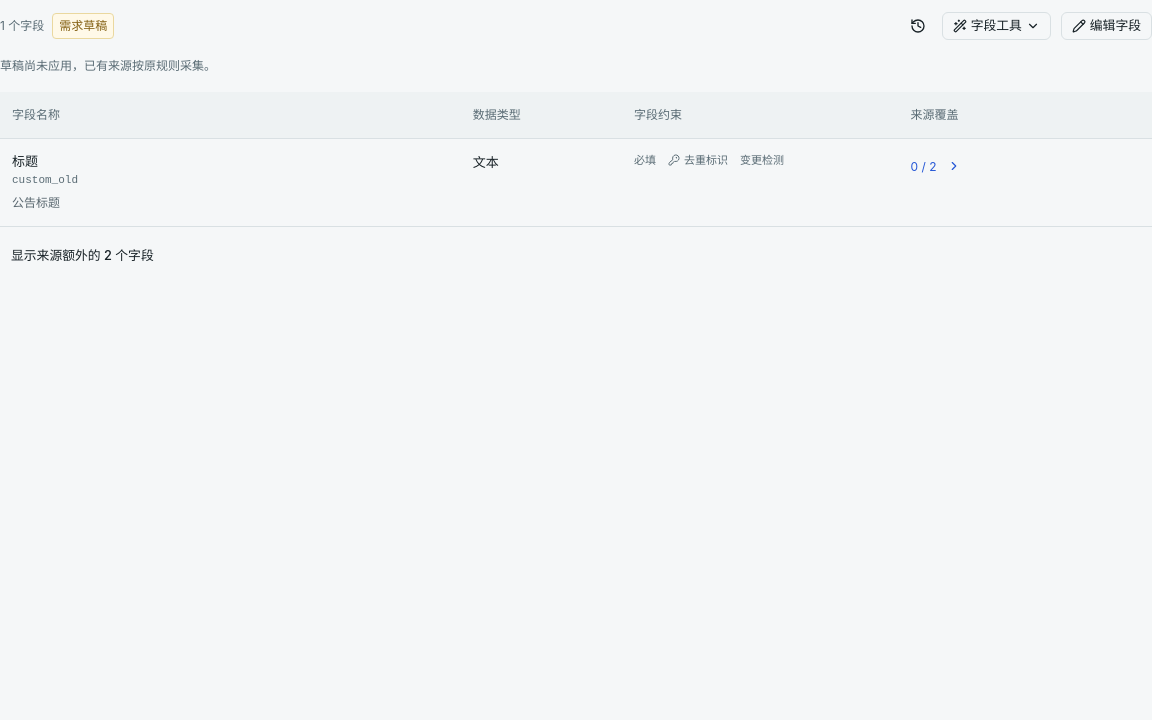
Test case: generates requirement fields from source with replace or merge mode
Click the button "字段工具" at {"x": 996, "y": 26}, box [942, 12, 1051, 40]
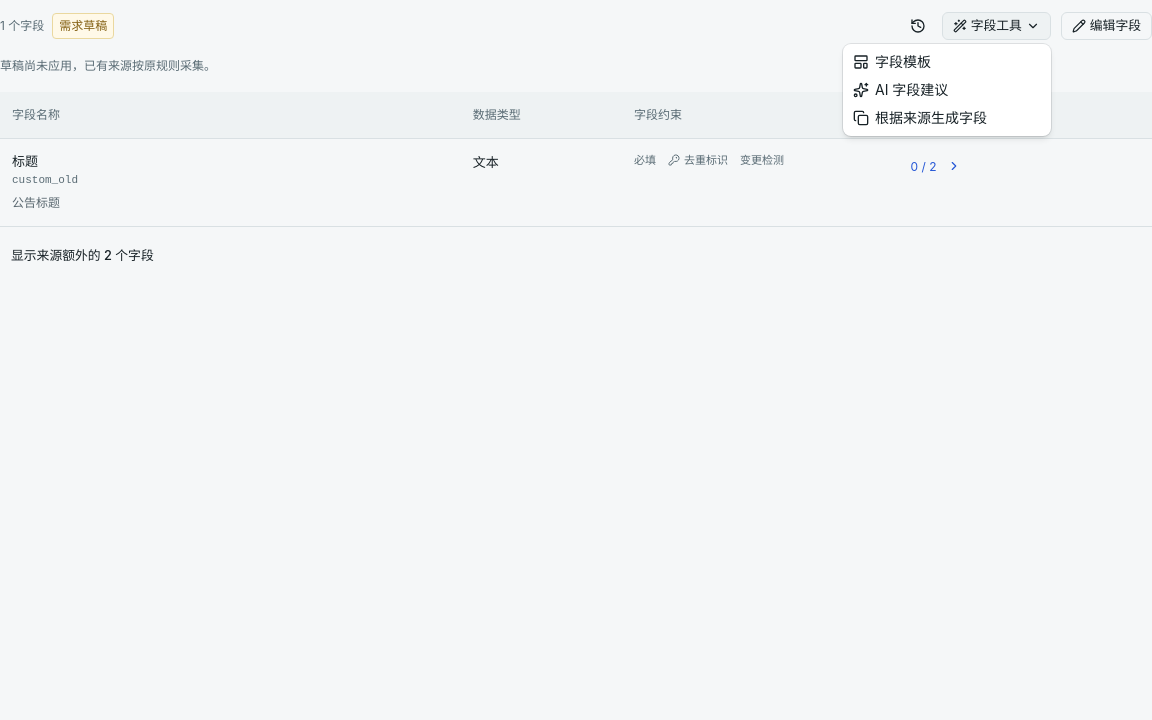
Click the menu item "根据来源生成字段" at {"x": 920, "y": 118}, box [853, 109, 987, 126]
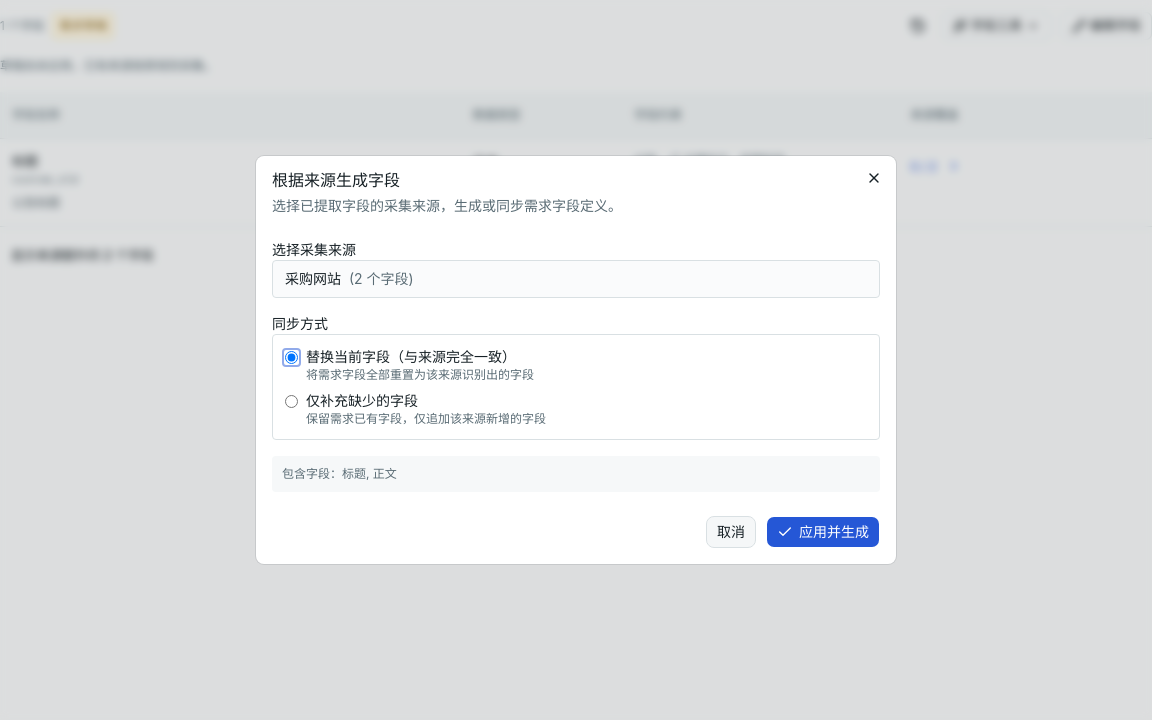
expect the dialog shows "根据来源生成字段": met, box [272, 170, 400, 190]
Click the button "应用并生成" at {"x": 823, "y": 532}, box [766, 516, 880, 548]
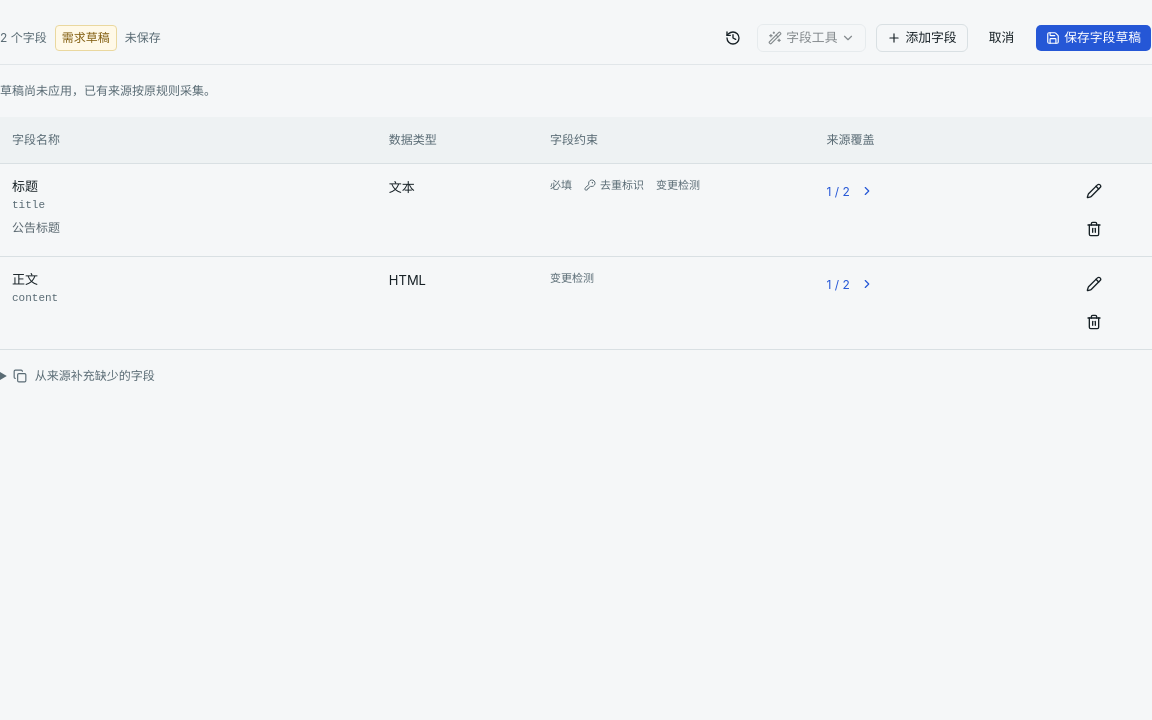
expect the text "title" is shown: met, box [12, 199, 45, 211]
expect the text "content" is shown: met, box [12, 292, 58, 304]
expect the text "custom_old" is gone: met
